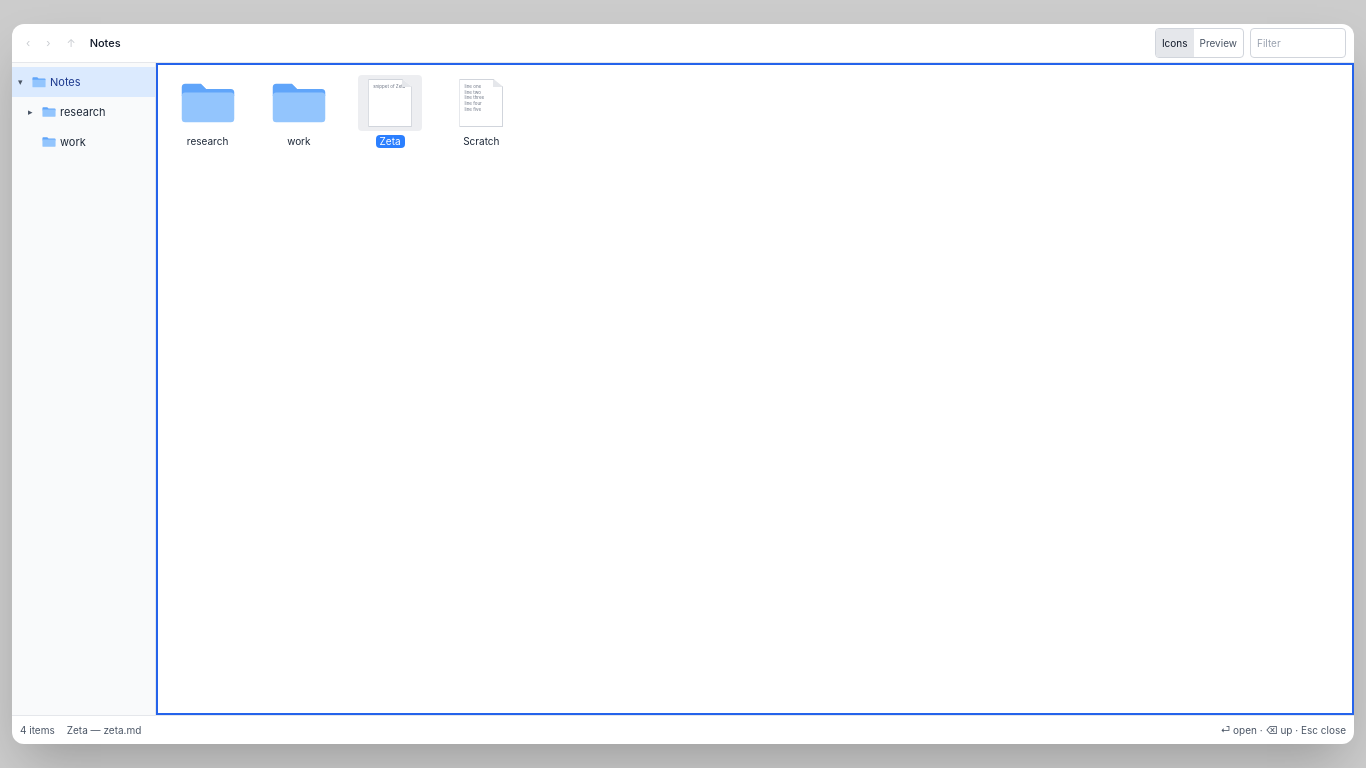
Test: Explorer: Preview cards › marks the current note's card
The image size is (1366, 768).
Click the button "Preview" at [1218, 43], box 1194,29 -> 1243,57
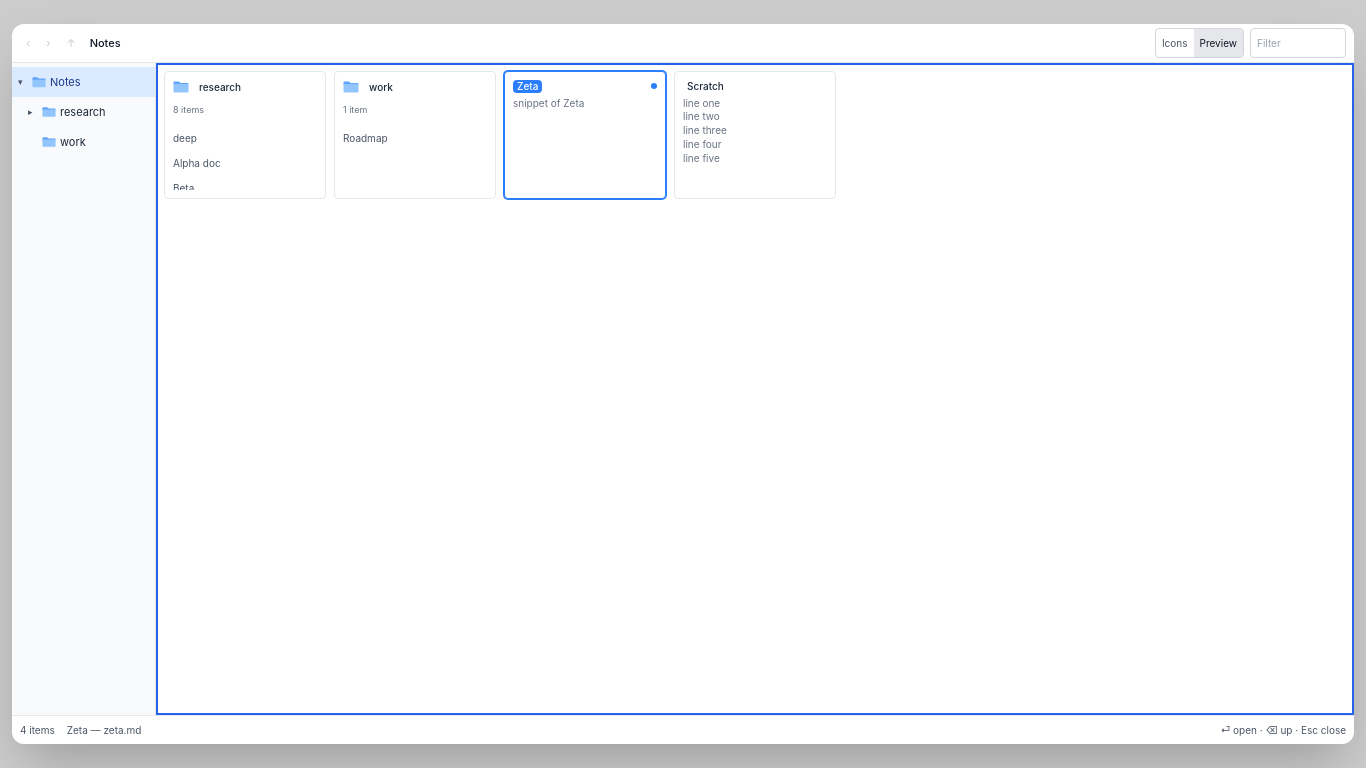
expect the element named "Current note" is shown: met, box 651,83 -> 657,89
